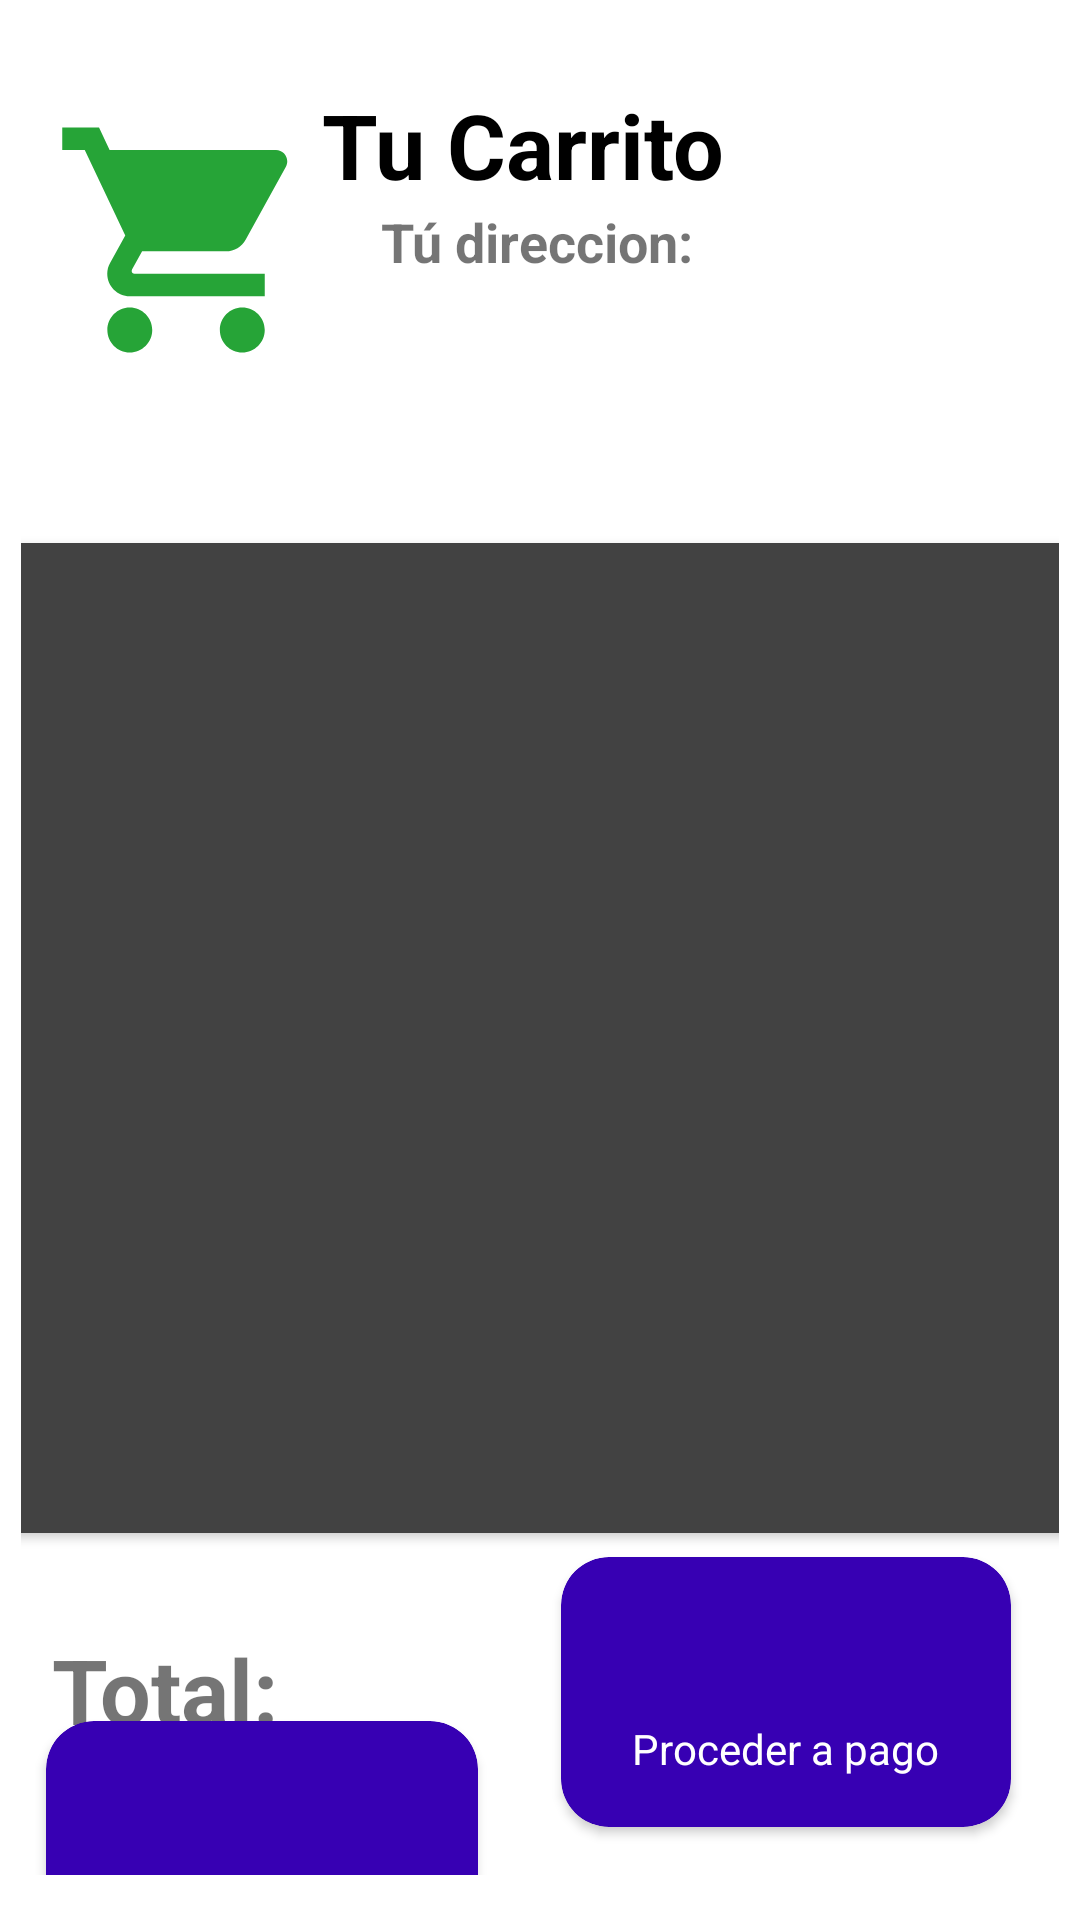

Where to tap for icons on this 1080×1920 app screen, as point (x, y):
shopping: point (175, 240)
